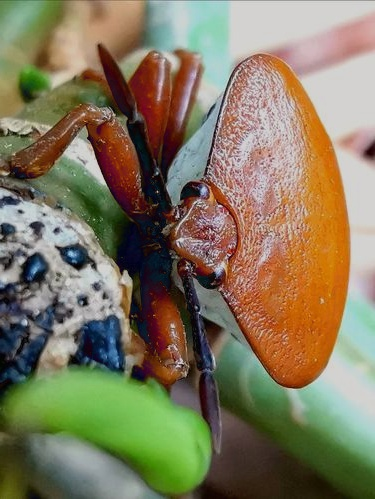Stink_Bug: (0, 47, 342, 400)
